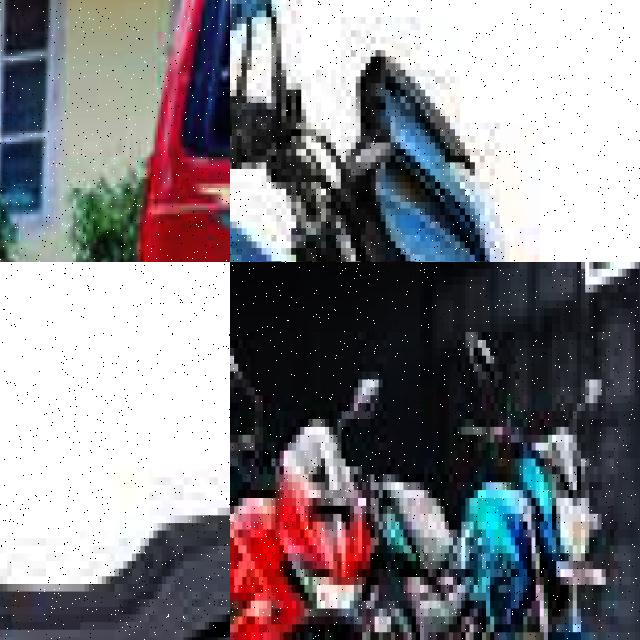bike: (230, 0, 640, 262), (0, 262, 230, 640), (370, 332, 630, 640), (230, 340, 382, 640)
car: (0, 43, 230, 262)
